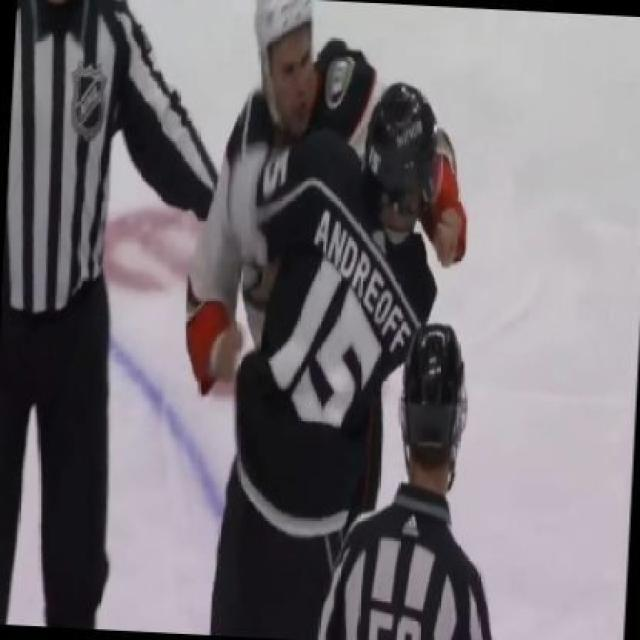fight: (179, 0, 470, 640)
non-fight: (0, 0, 219, 640), (304, 316, 496, 640)
